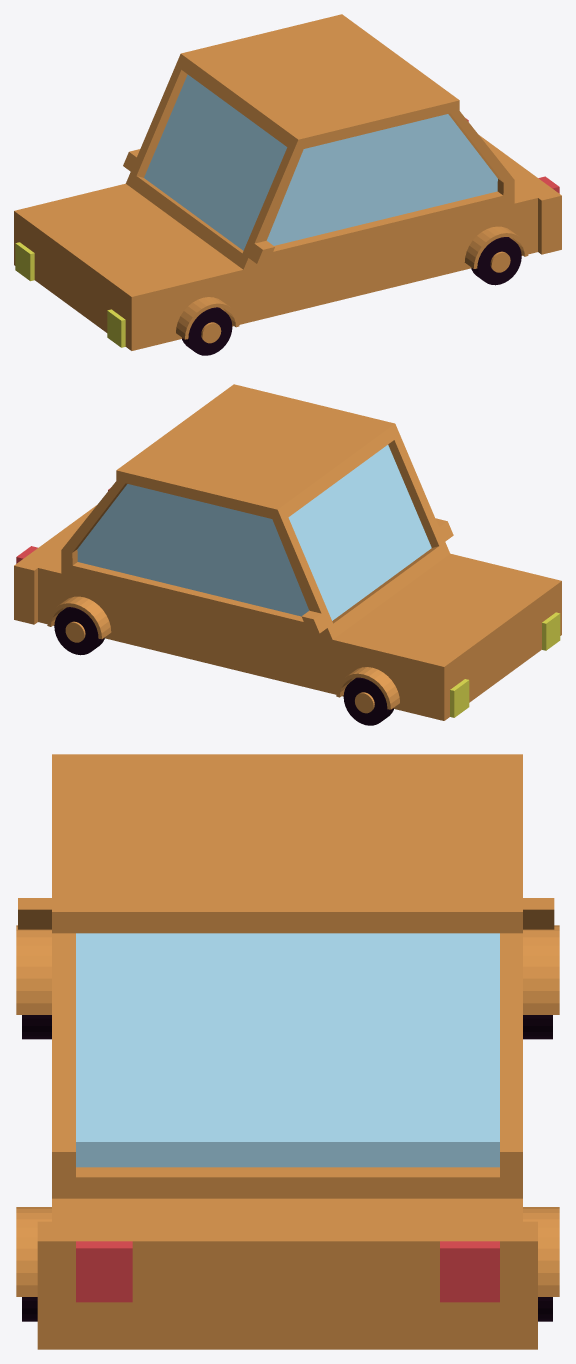
The model's file is YellowCar.fbx.
3 views of the same model, one above another, from view 1: azimuth 30°, elevation 25°; view 2: azimuth 150°, elevation 25°; view 3: azimuth 270°, elevation 25° (orthographic). The views are drawn at different scales.
Parts seen in each view (by area): view 1: Cube, Cylinder, Cylinder.002, Cylinder.001; view 2: Cube, Cylinder, Cylinder.002, Cylinder.001; view 3: Cube, Cylinder.002, Cylinder.
Part boxes in pixels (x1=…): Cube: x1=14, y1=14, x2=561, y2=350; Cylinder: x1=182, y1=237, x2=521, y2=355; Cylinder.002: x1=176, y1=226, x2=528, y2=339; Cylinder.001: x1=201, y1=251, x2=510, y2=343; Cube: x1=14, y1=384, x2=561, y2=720; Cylinder: x1=54, y1=607, x2=393, y2=725; Cylinder.002: x1=47, y1=596, x2=399, y2=709; Cylinder.001: x1=65, y1=621, x2=374, y2=713; Cube: x1=18, y1=754, x2=554, y2=1349; Cylinder.002: x1=16, y1=925, x2=559, y2=1296; Cylinder: x1=22, y1=1015, x2=552, y2=1321.
Bounding box in the file's own units: 563 × 229 × 302.
